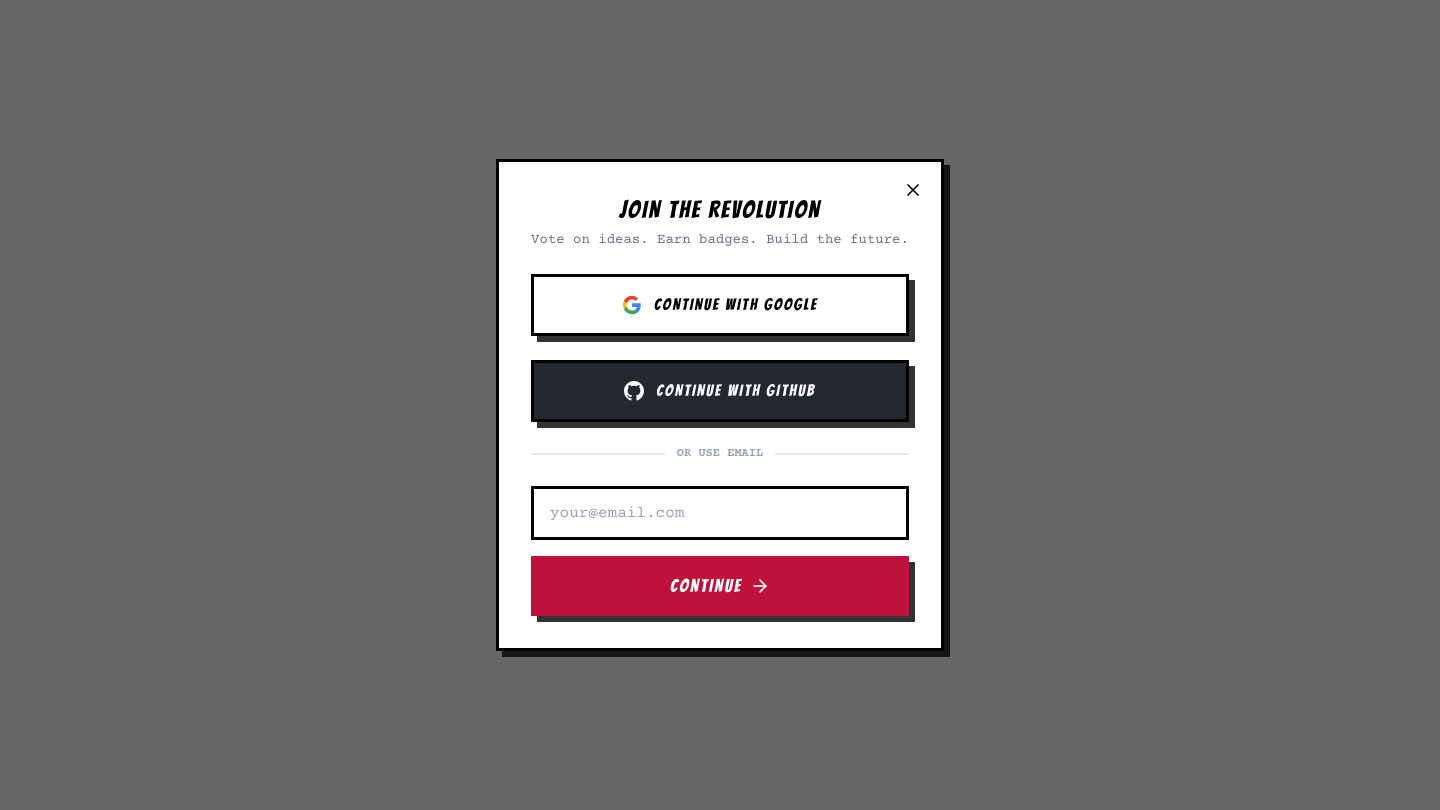
Test: AuthModal › shows branded error for invalid email on submit
// Invalid email
Type "invalid-email" into the field with placeholder "your@email.com" at [720, 513], box [531,486,909,540]
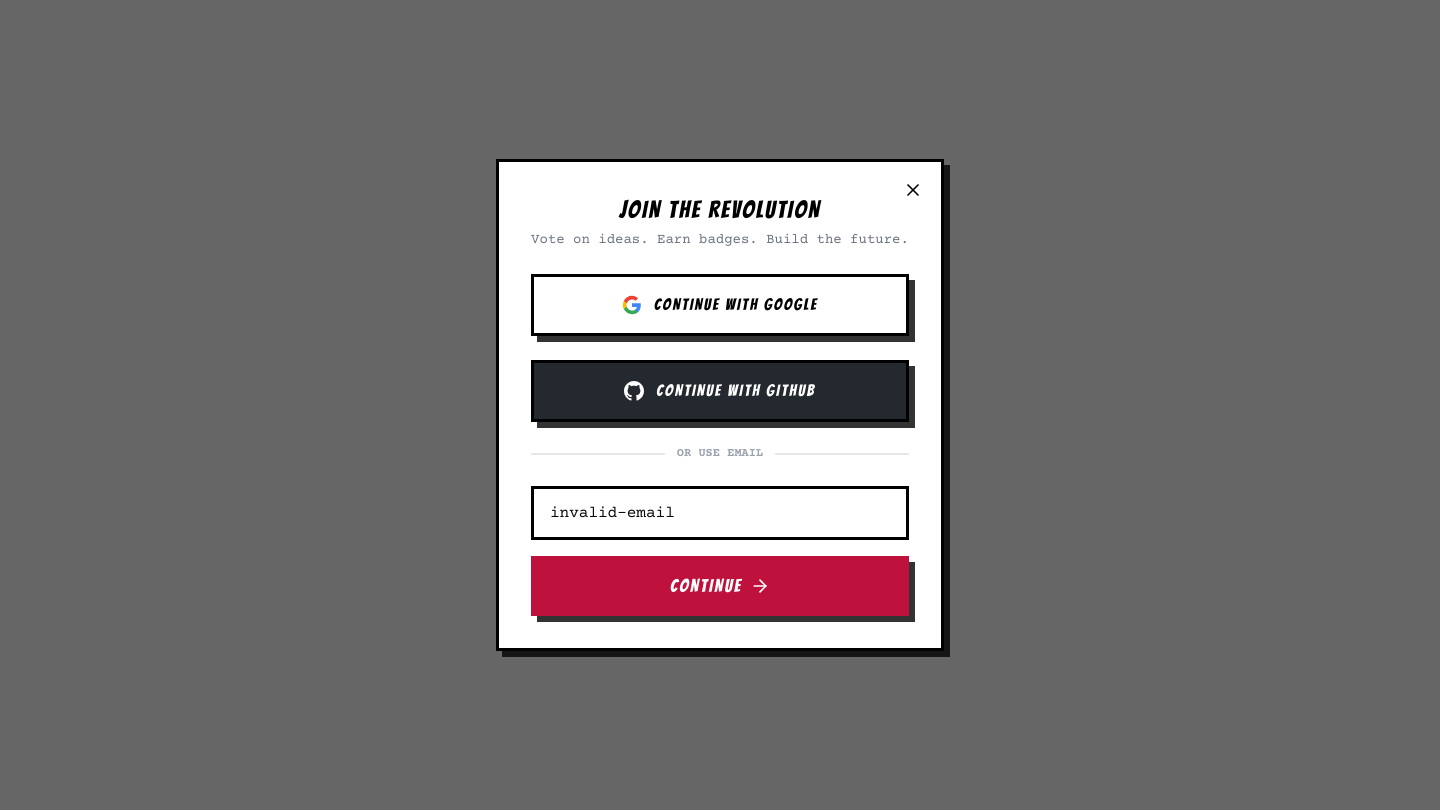
Click the button "CONTINUE" at [720, 586], box [531,556,909,616]
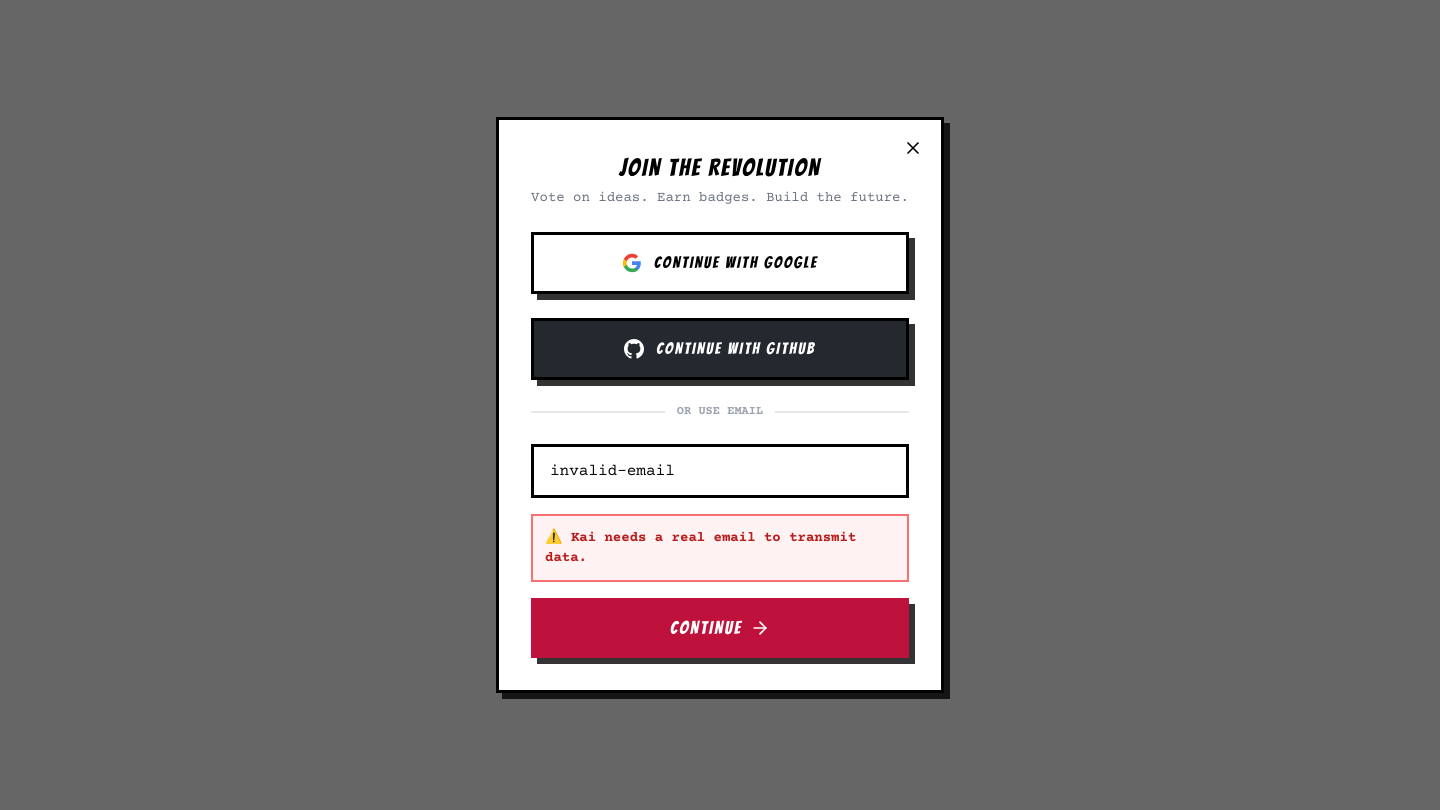
Expected: the text "⚠️ Kai needs a real email to transmit data." is shown, [531,514,909,582]
